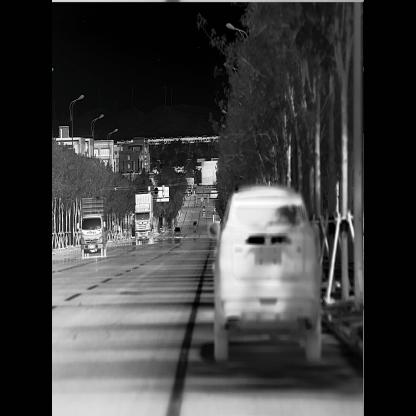car: (209, 185, 322, 363), (173, 226, 180, 238), (188, 186, 192, 196), (193, 220, 198, 226), (193, 184, 196, 193), (202, 205, 206, 210), (202, 210, 205, 216)
truck: (80, 197, 106, 256), (134, 193, 154, 245)
